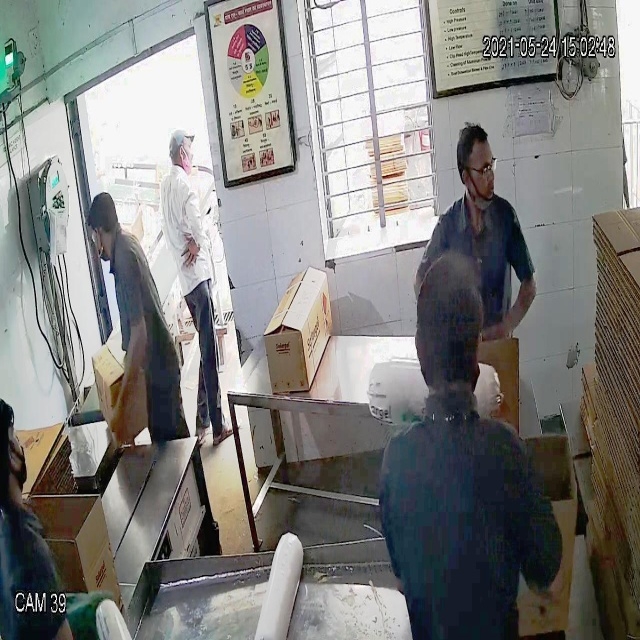Gafas: (457, 153, 502, 186)
